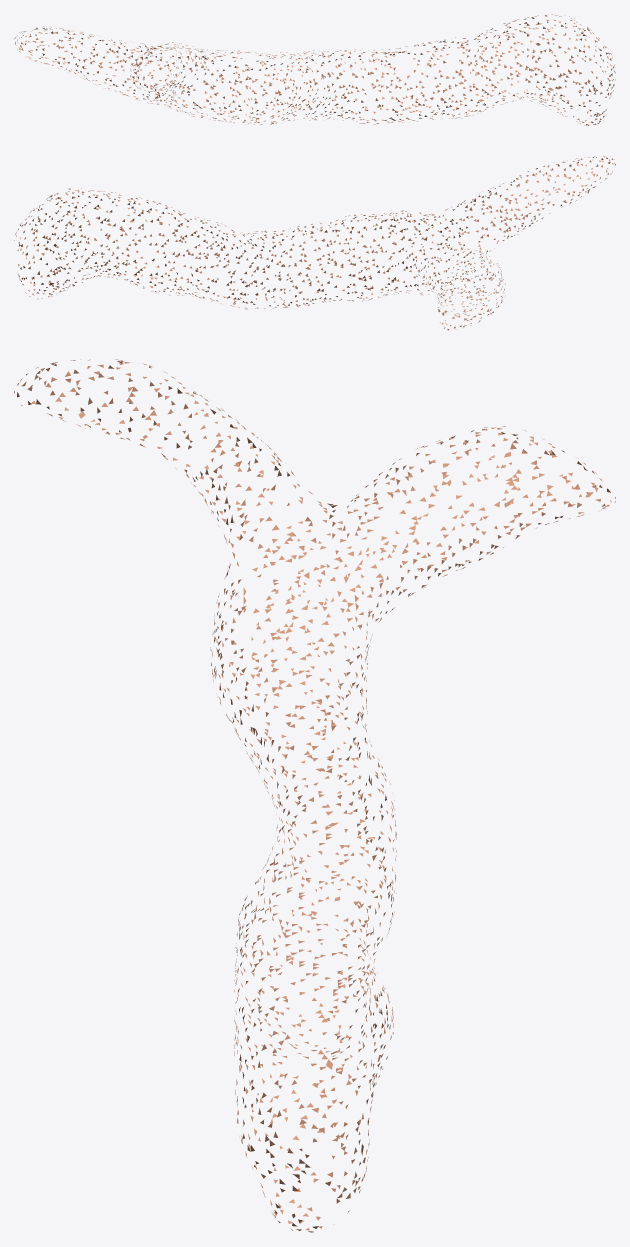
The model's file is morph_004.glb.
3 renders of one model, top to bottom at view 1: azimuth 30°, elevation 25°; view 2: azimuth 150°, elevation 25°; view 3: azimuth 270°, elevation 25°, orthographic. The views are drawn at different scales.
Size of the model in its own units: 129 by 50.16 by 65.93.
